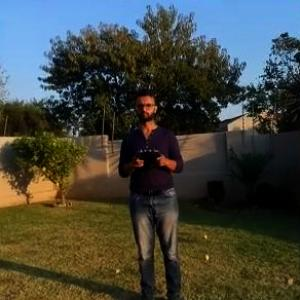follow: (114, 84, 190, 299)
